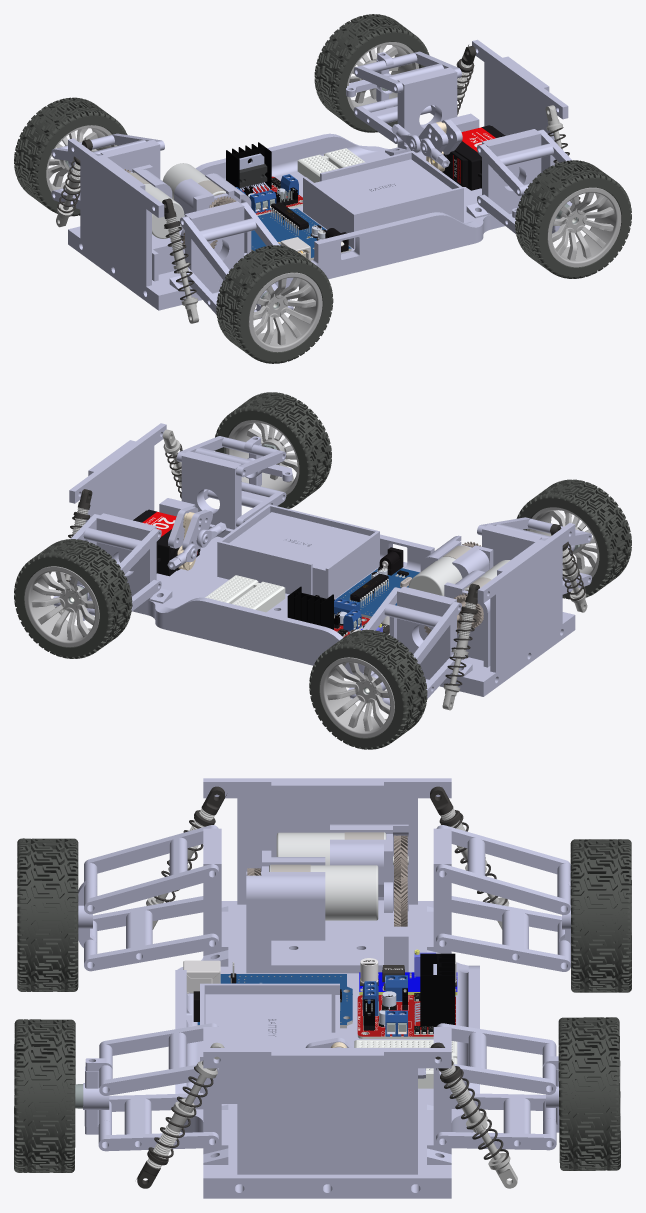
The model's file is assembly.glb.
3 views of the same model, one above another, from view 1: azimuth 30°, elevation 25°; view 2: azimuth 150°, elevation 25°; view 3: azimuth 270°, elevation 25° (orthographic). The views are drawn at different scales.
Visible parts, largest first — view 1: Front Chassis-1, Front Suspension Support-2, Rear Chassis-1, Wheel Tread-1, Wheel Tread-2, Wheel Tread-3, Front Suspension Support-1, Wheel Tread-4, Wheel Rims (1)-1, Wheel Rims (1)-2, Battery (Not Accurate)-1, Suspension Support-1 (+24 smaller); view 2: Front Chassis-1, Front Suspension Support-2, Rear Chassis-1, Wheel Tread-4, Wheel Tread-3, Wheel Tread-2, Wheel Tread-1, Front Suspension Support-1, Battery (Not Accurate)-1, Wheel Rims (1)-3, Wheel Rims (1)-4, Suspension Support-2 (+25 smaller); view 3: Front Suspension Support-1, Motor Mount-1, Front Suspension Support-2, Wheel Tread-1, Wheel Tread-2, Wheel Tread-3, Wheel Tread-4, Rear Chassis-1, Battery (Not Accurate)-1, Upper Suspension Arm-4, Upper Suspension Arm-3, Lower Suspension Arm-3 (+24 smaller).
Boxes of the visible parts, x1,y1,x2,y2 form: Front Chassis-1: (267, 113, 519, 267); Front Suspension Support-2: (68, 138, 169, 310); Rear Chassis-1: (79, 158, 410, 307); Wheel Tread-1: (216, 245, 333, 363); Wheel Tread-2: (515, 160, 631, 278); Wheel Tread-3: (314, 14, 429, 132); Front Suspension Support-1: (472, 39, 568, 173); Wheel Tread-4: (14, 97, 127, 216); Wheel Rims (1)-1: (248, 272, 322, 352); Wheel Rims (1)-2: (547, 187, 621, 267); Battery (Not Accurate)-1: (314, 159, 451, 212); Suspension Support-1: (385, 67, 457, 155); Front Chassis-1: (118, 498, 322, 653); Front Suspension Support-2: (472, 523, 575, 696); Rear Chassis-1: (263, 517, 563, 694); Wheel Tread-4: (309, 629, 427, 749); Wheel Tread-3: (14, 539, 132, 658); Wheel Tread-2: (214, 392, 331, 508); Wheel Tread-1: (516, 479, 631, 599); Front Suspension Support-1: (69, 423, 166, 583); Battery (Not Accurate)-1: (229, 512, 369, 598); Wheel Rims (1)-3: (24, 566, 99, 646); Wheel Rims (1)-4: (320, 657, 394, 737); Suspension Support-2: (181, 451, 241, 537); Front Suspension Support-1: (203, 1048, 451, 1198); Motor Mount-1: (246, 824, 408, 973); Front Suspension Support-2: (203, 778, 451, 908); Wheel Tread-1: (17, 838, 78, 991); Wheel Tread-2: (14, 1019, 75, 1172); Wheel Tread-3: (558, 1017, 620, 1170); Wheel Tread-4: (570, 839, 631, 992); Rear Chassis-1: (175, 908, 479, 1062); Battery (Not Accurate)-1: (205, 994, 331, 1047); Upper Suspension Arm-4: (436, 825, 570, 914); Upper Suspension Arm-3: (84, 825, 219, 914); Lower Suspension Arm-3: (84, 896, 219, 971).
Size of the model in its own units: 0.291 by 0.0824 by 0.2738.
3 materials, 3 textured.
